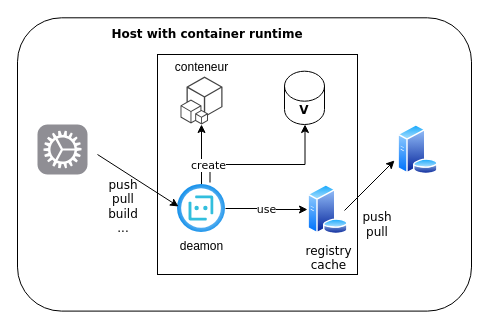
Some shapes in this 489 by 329 pixel diagram are drawn without their labels. The shapes that lost their labels are listed below. From the top down, each one's box as (x1, y1, x2, y2) in pixels, then its label:
(37, 124, 87, 174): cli
(397, 124, 438, 174): registry
